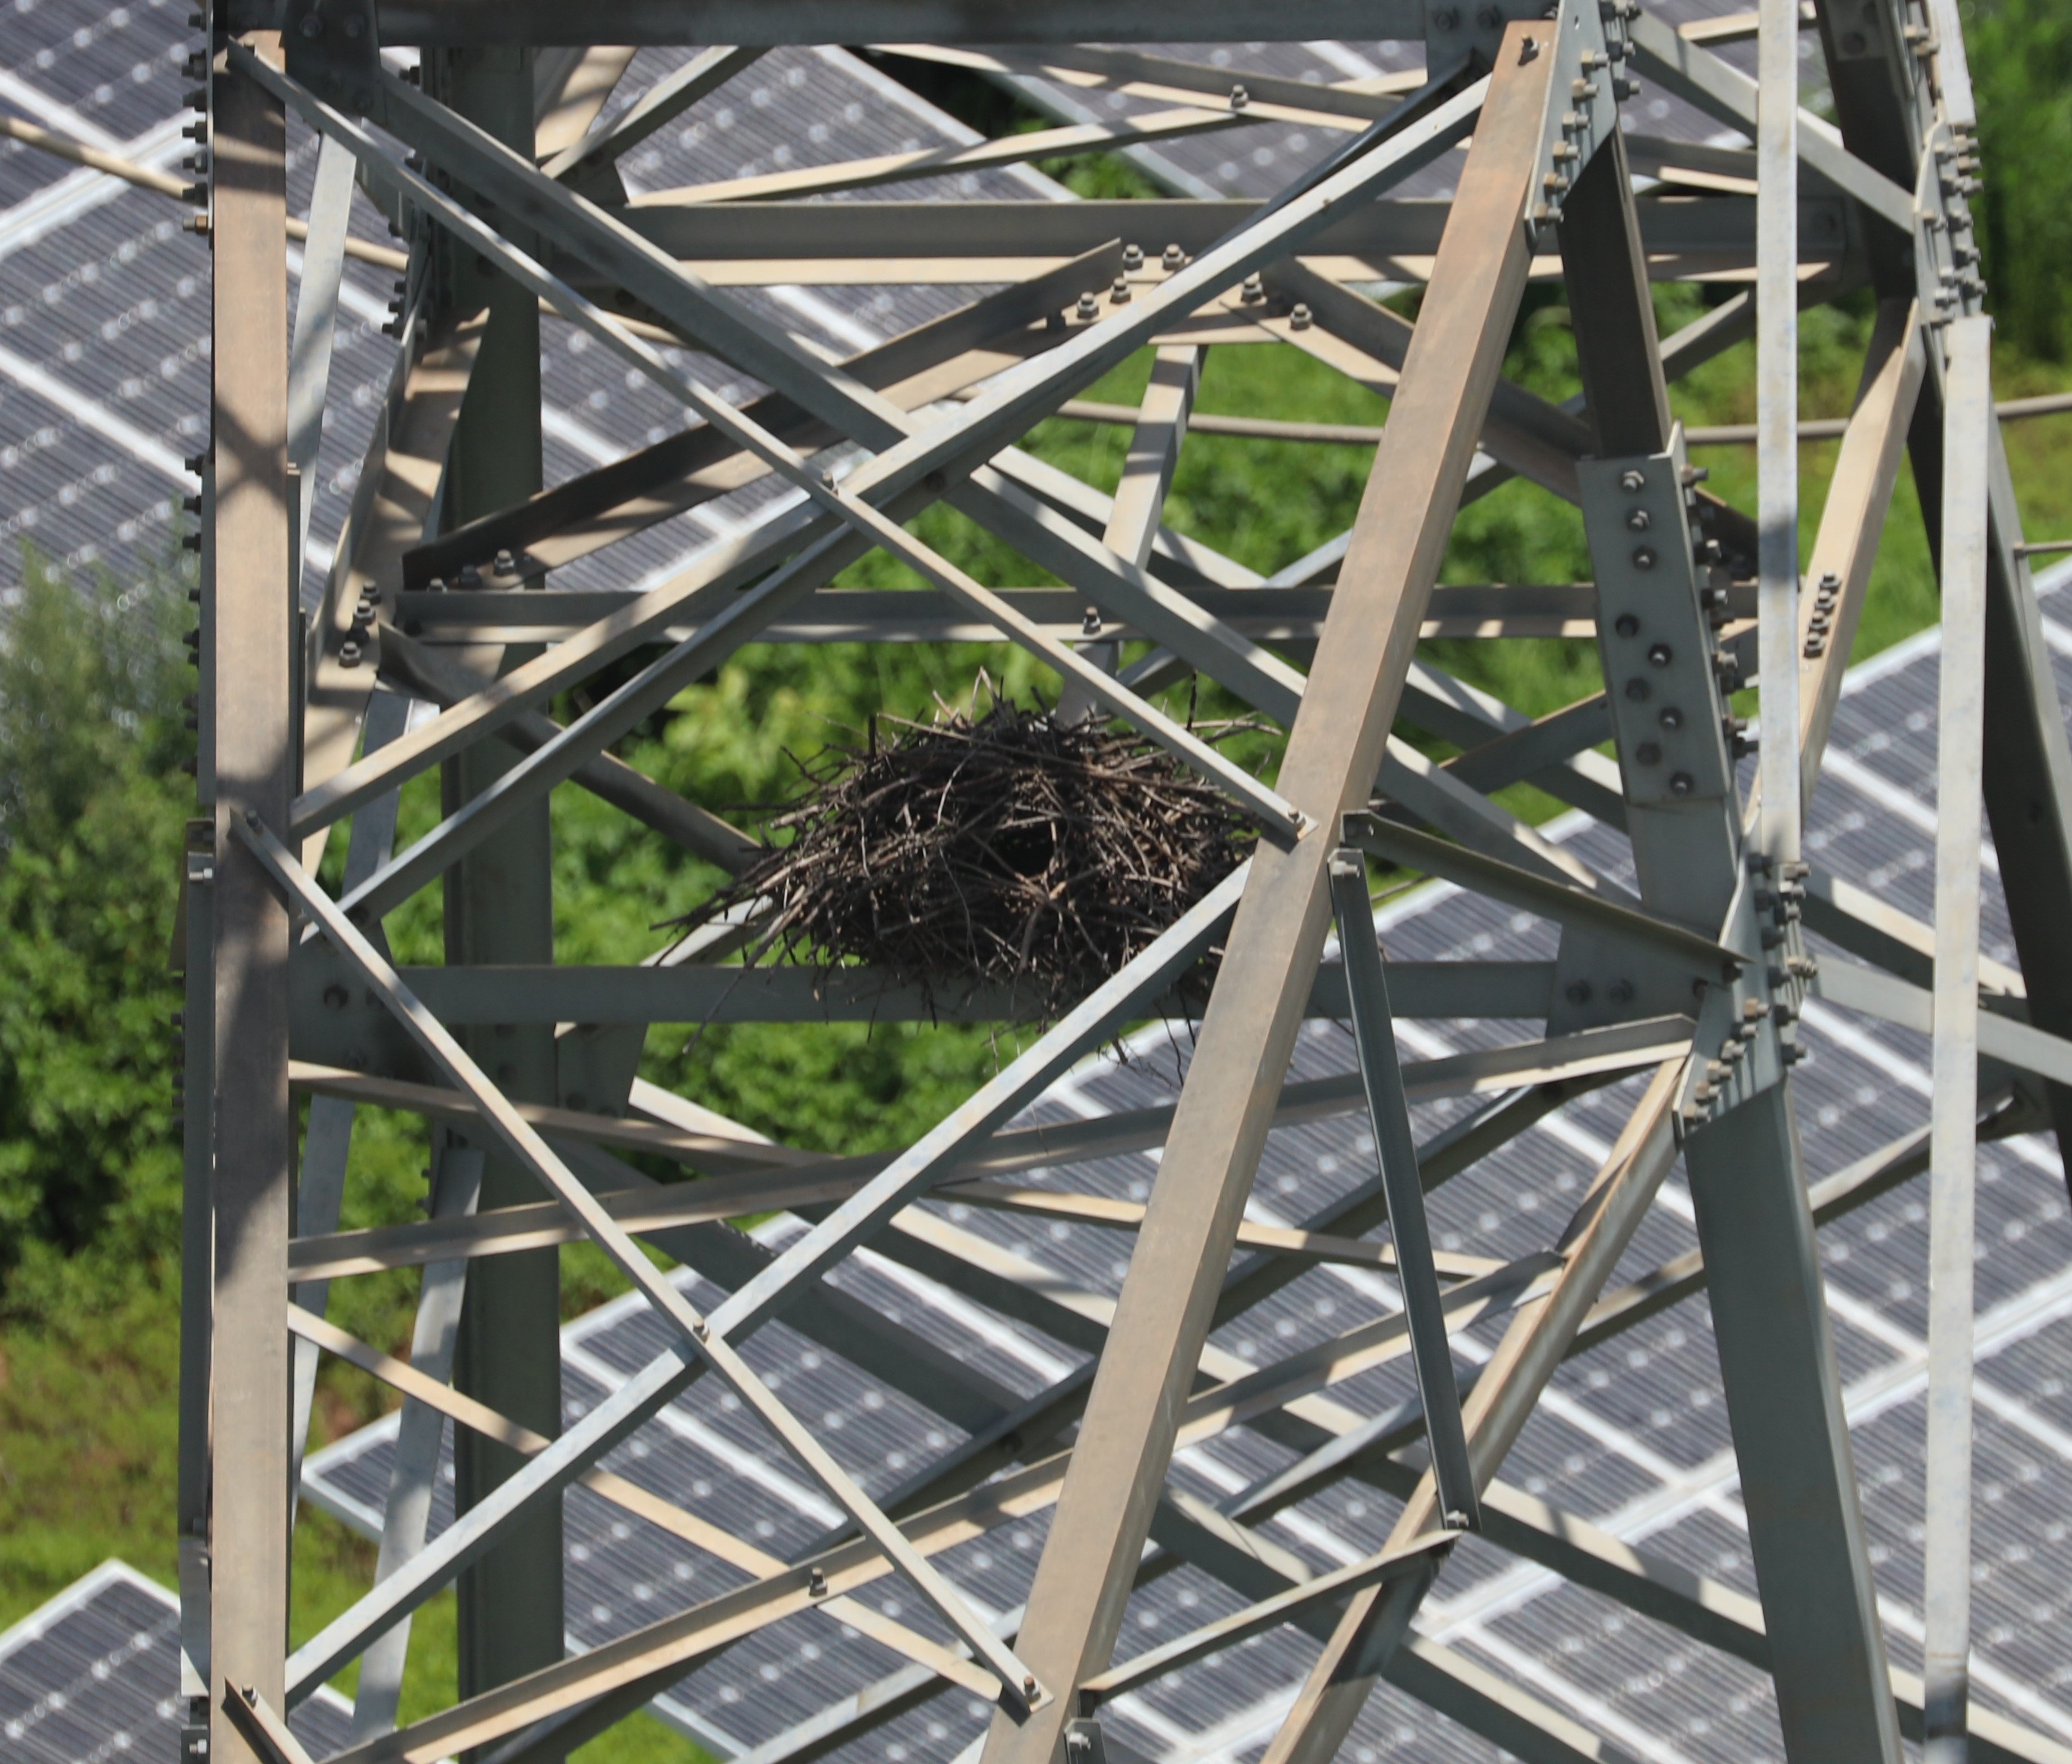niaowo: (749, 663, 1311, 1052)
